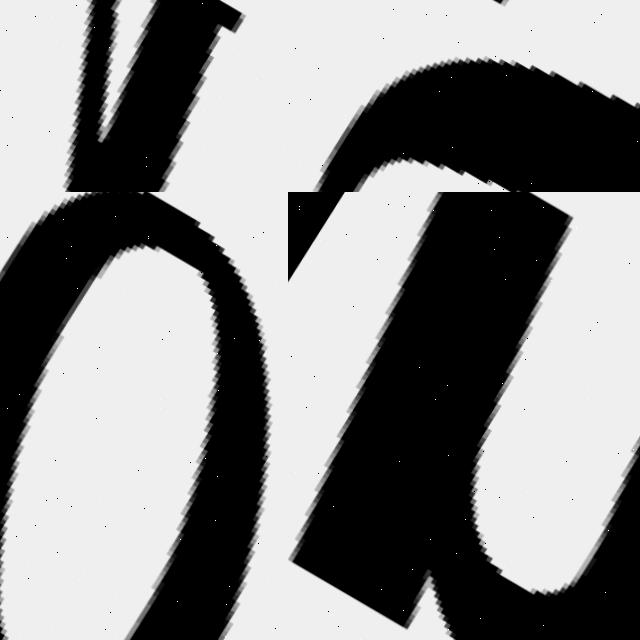0: (0, 192, 288, 640)
S: (288, 0, 640, 192)
U: (288, 192, 640, 640)
Y: (0, 0, 288, 192)
